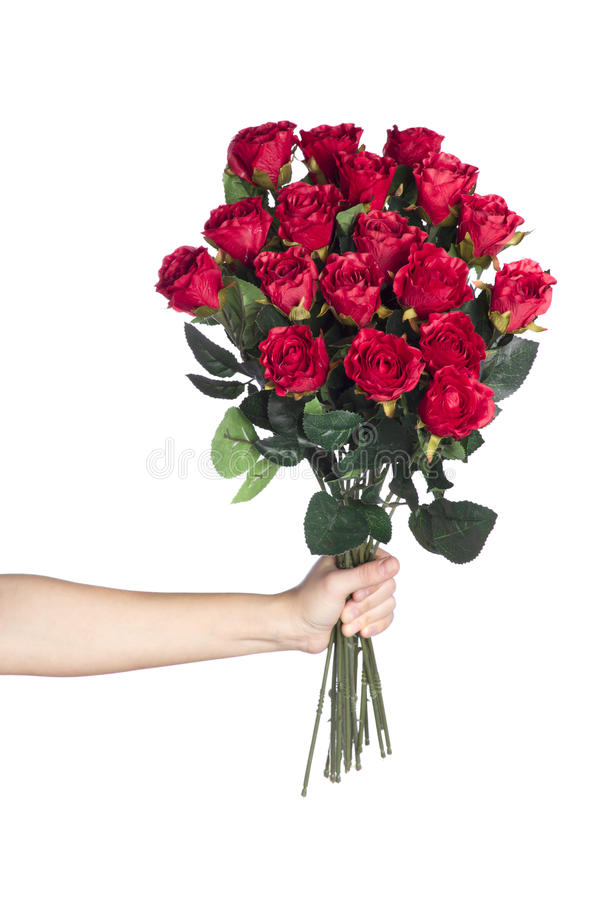RedRose: (154, 232, 237, 347), (256, 314, 349, 414), (495, 239, 575, 349), (250, 237, 332, 338), (391, 231, 481, 321), (222, 108, 306, 201), (352, 321, 428, 417), (411, 370, 501, 445), (411, 138, 479, 229), (454, 183, 523, 256)
